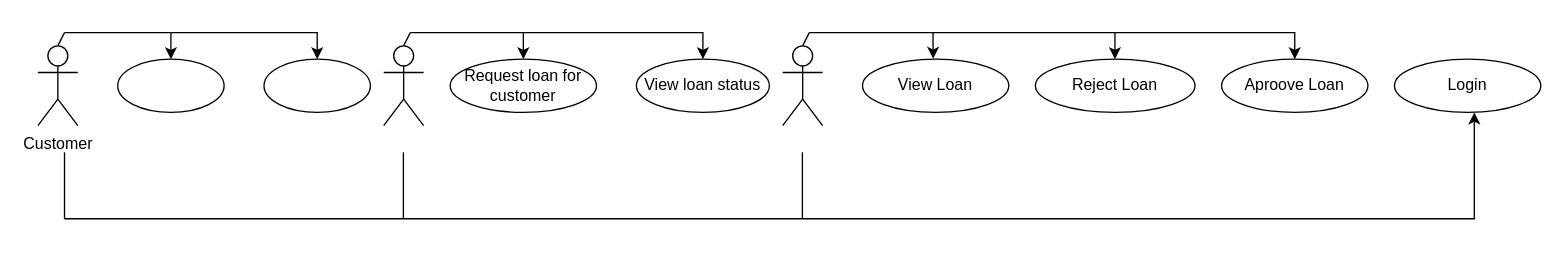
Image size: 1564x253. Some labels were removed from this diagram. Here are the shapes that lost their labels. From the top down, the centre of each, then its label:
At [170,85]: "Register".
At [316,85]: "Request Loan".
At [403,85]: "Agent".
At [802,85]: "Admin".
